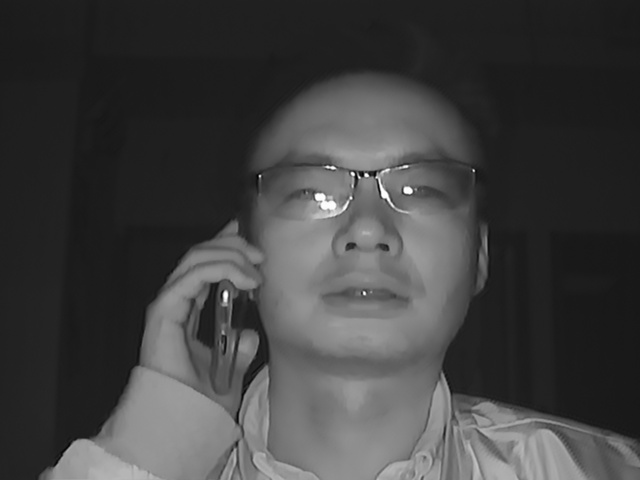hand: (132, 221, 268, 399)
